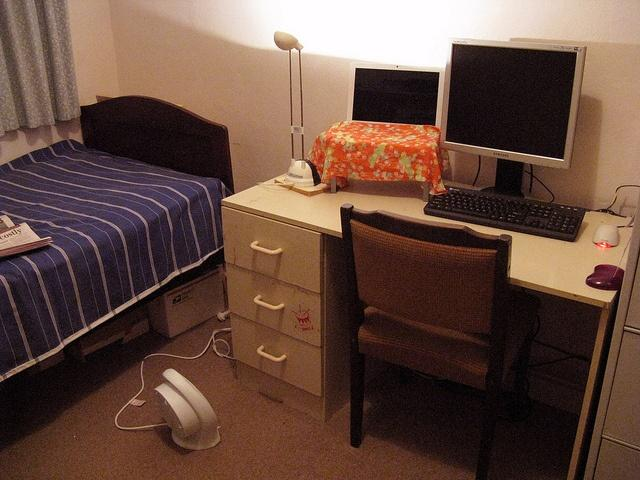AIO PC-Monitor-TV: (444, 35, 589, 171)
Filing Cabinet: (217, 201, 326, 417)
Kursi: (340, 202, 532, 474)
